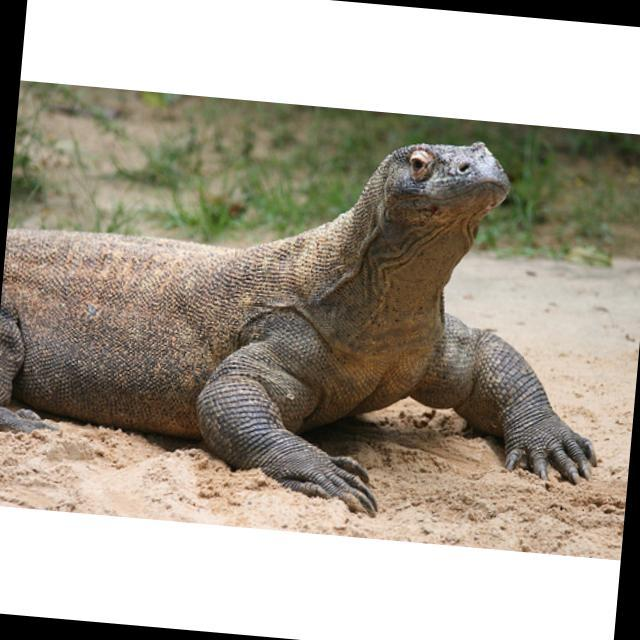KomodoDragon: (0, 100, 623, 536)
